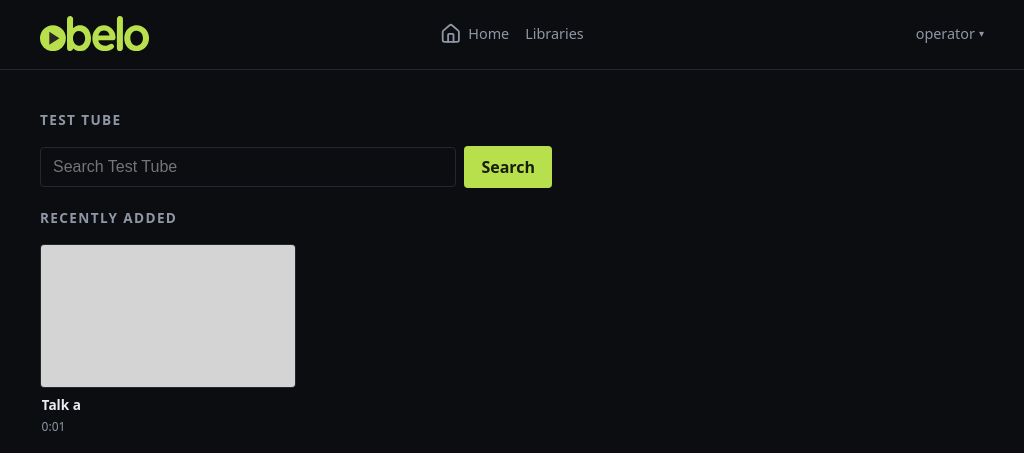
Scenario: OnlineSourceScreen search › shows the same message in place of results on a failure and leaves the box usable
Step 1. Type "cats" into the search field with test id "online-search-input" → (248, 167), box [40,147,456,187]
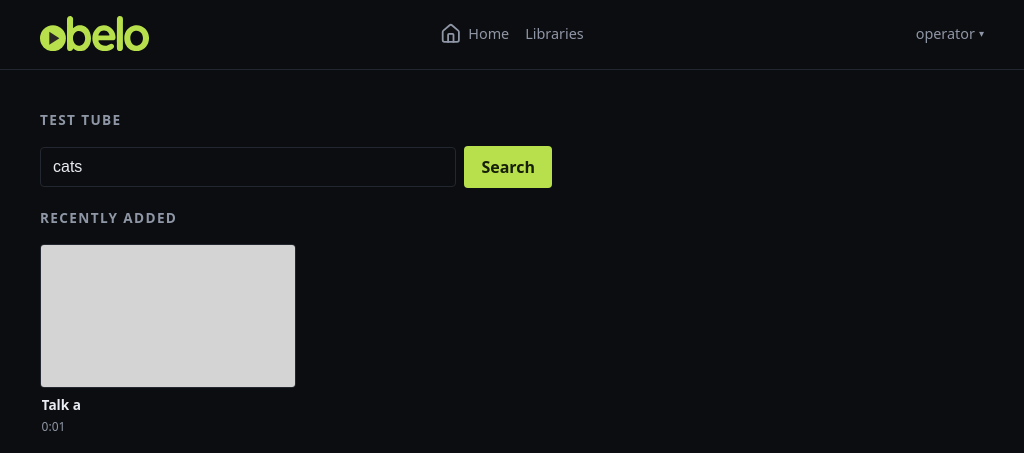
Step 2. Submit the form with test id "online-search-form", box [40,146,552,188]
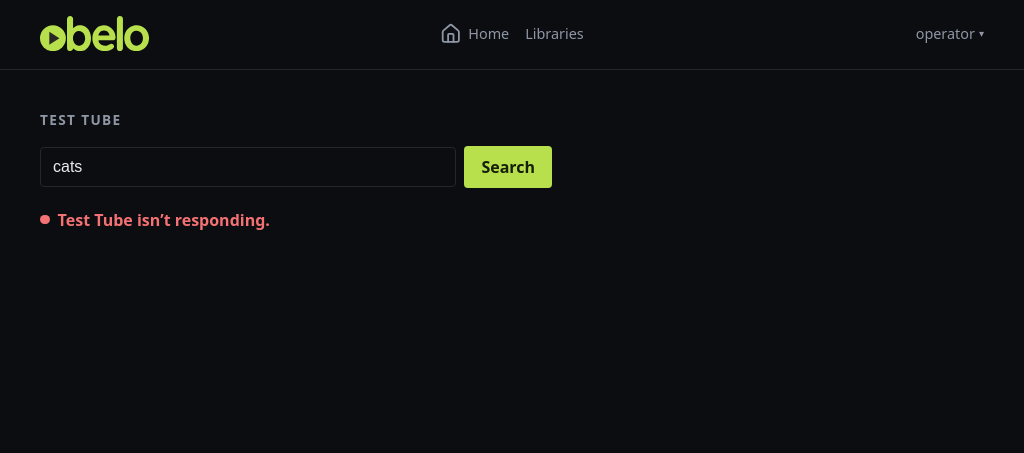
Now the message with test id "online-search-error" reads "Test Tube isn’t responding.", box [40,209,270,231]
Step 3. Replace the text in the search field with test id "online-search-input" with "dogs" → (248, 167), box [40,147,456,187]
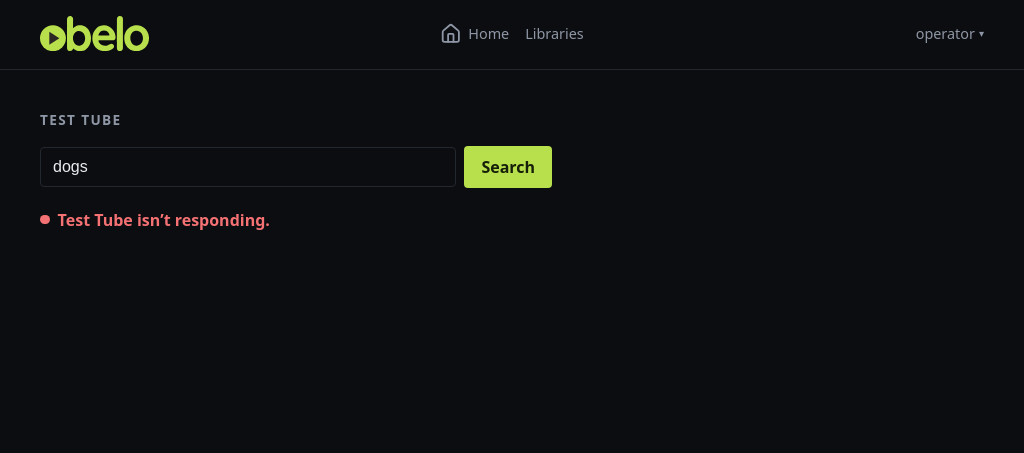
Step 4. Submit the form with test id "online-search-form", box [40,146,552,188]
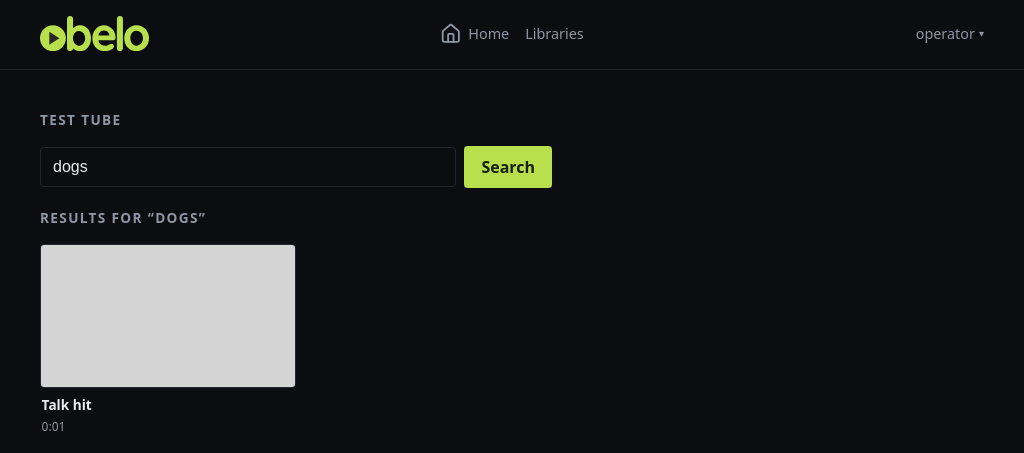
Now the message with test id "online-search-error" is gone
